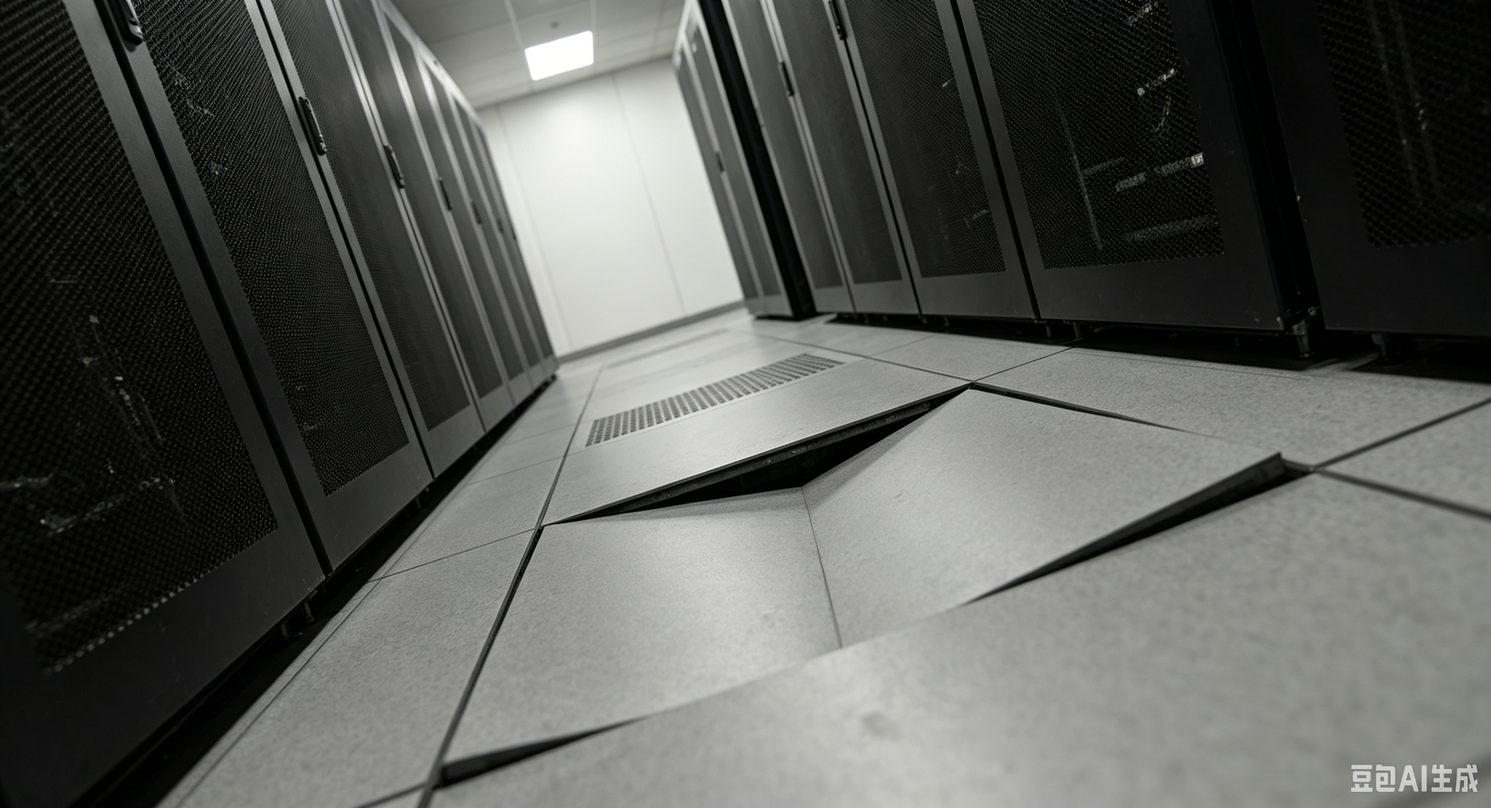floor_defect: (433, 379, 1322, 793)
